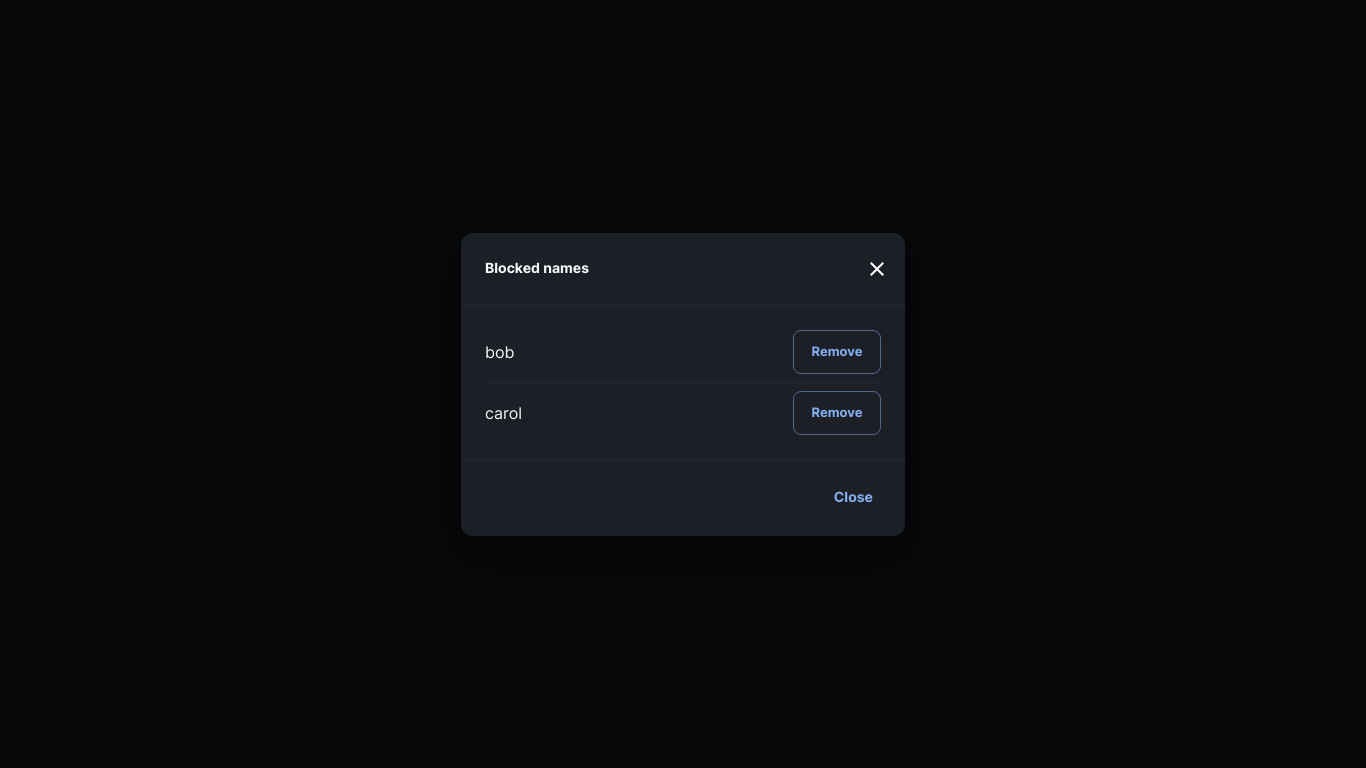
Test: BlockedNamesModal › lists blocked names and unblocks one with DELETE_LIST_ITEM
Check: the text "bob" is shown, box [485,342,514,362]
What coordinates should you click on to do the following:
click the button with aria-label "Unblock bob"
I would click on:
 (837, 352)
Its box is [793,330,881,374].
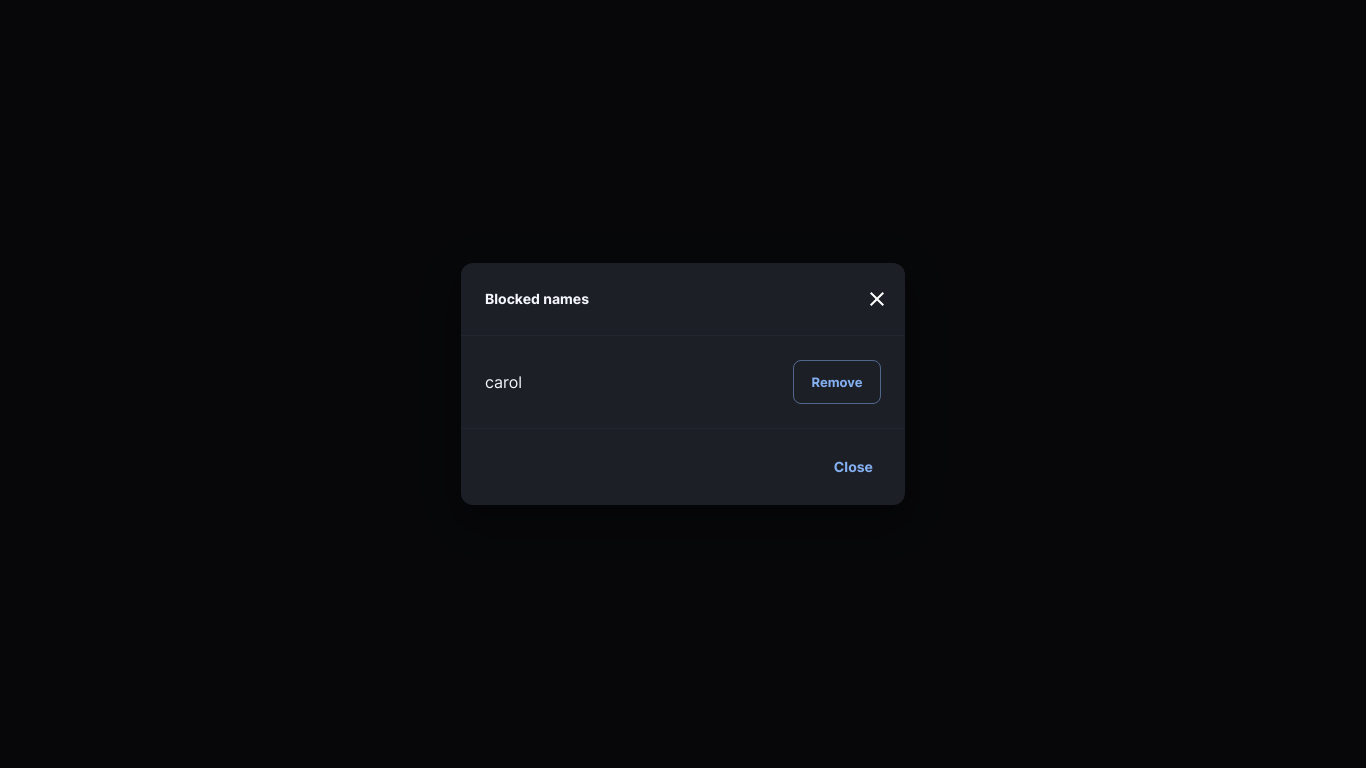
Check: the text "carol" is shown, box [485,372,522,392]
Check: the text "bob" is gone
